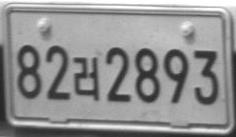2: (105, 46, 131, 101), (45, 45, 70, 100)
3: (193, 49, 219, 104)
8: (133, 47, 160, 103), (16, 44, 42, 99)
9: (162, 48, 188, 104)
러: (73, 56, 99, 100)
